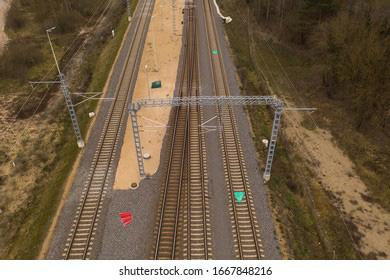Color_steel: (118, 209, 133, 229)
Dust_screen: (231, 190, 246, 206), (150, 78, 162, 90), (211, 48, 222, 58)
